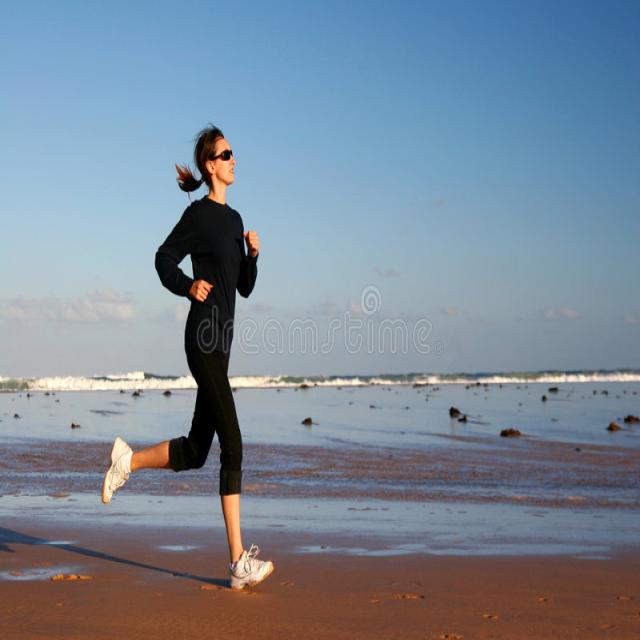running: (101, 127, 276, 599)
